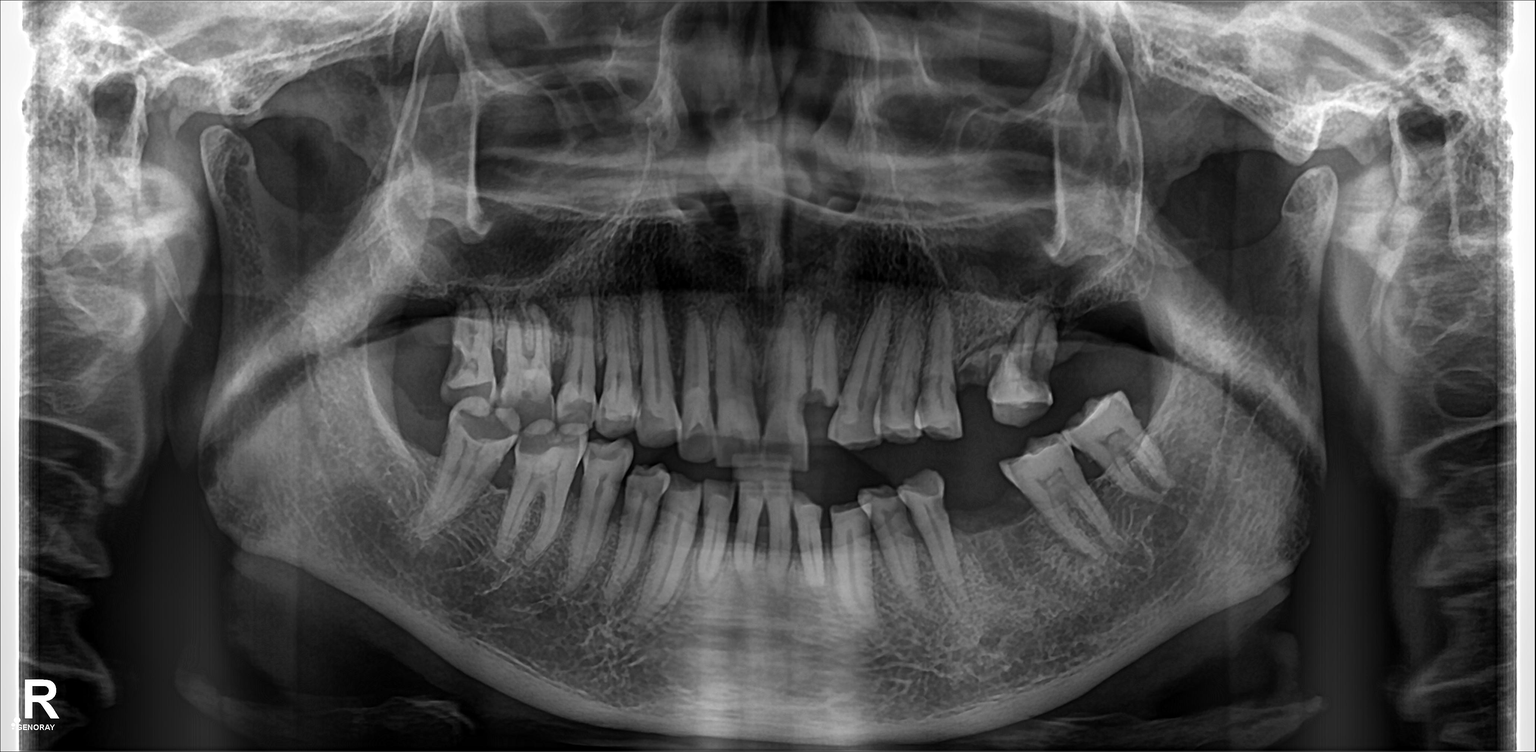Dental Caries: (451, 411, 526, 448), (514, 380, 553, 426), (1021, 331, 1053, 378), (559, 398, 599, 428)
Missing Tooth: (961, 486, 1021, 597), (1110, 294, 1155, 402), (1065, 290, 1108, 392), (402, 303, 450, 390), (402, 413, 442, 495)
Periodontal Pocket: (956, 329, 994, 431)
Retained Root: (795, 315, 855, 425)
